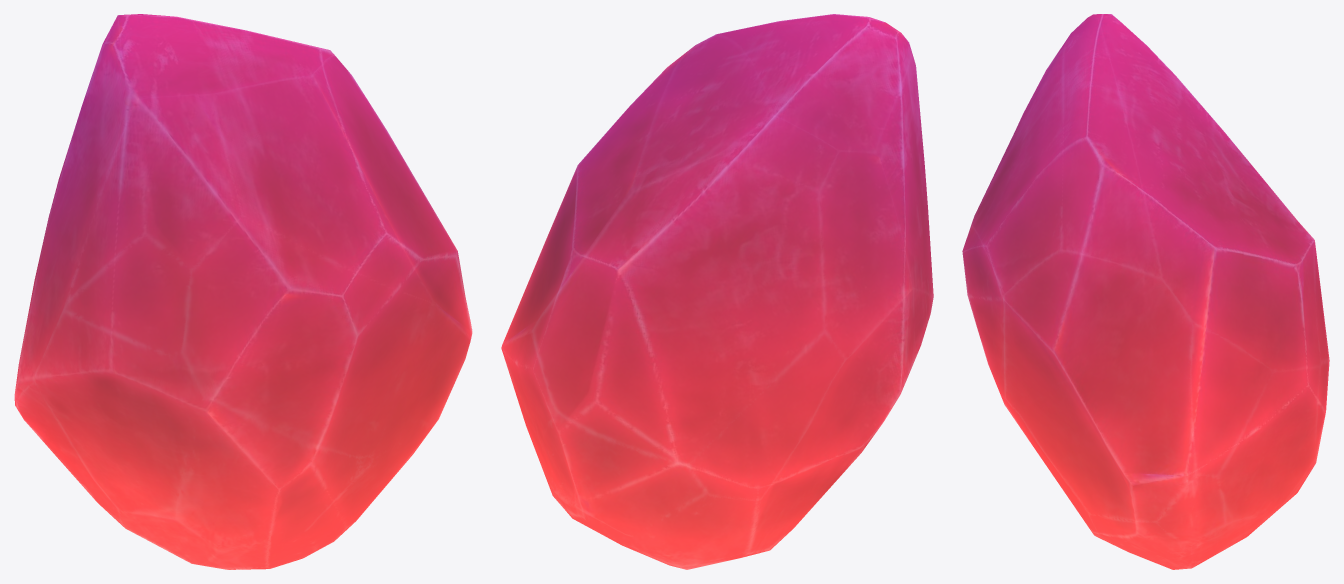
File: stylized_gem.glb
3 renders of one model, left to right at view 1: azimuth 30°, elevation 25°; view 2: azimuth 150°, elevation 25°; view 3: azimuth 270°, elevation 25°, orthographic. The views are drawn at different scales.
Visible parts, largest first — view 1: Retopo_gem_1_v2.001; view 2: Retopo_gem_1_v2.001; view 3: Retopo_gem_1_v2.001.
Boxes of the visible parts, x1,y1,x2,y2 form: Retopo_gem_1_v2.001: (14, 14, 472, 569); Retopo_gem_1_v2.001: (501, 14, 933, 569); Retopo_gem_1_v2.001: (962, 14, 1329, 569).
Size of the model in its own units: 135 by 181 by 127.
1 material, 1 textured.
